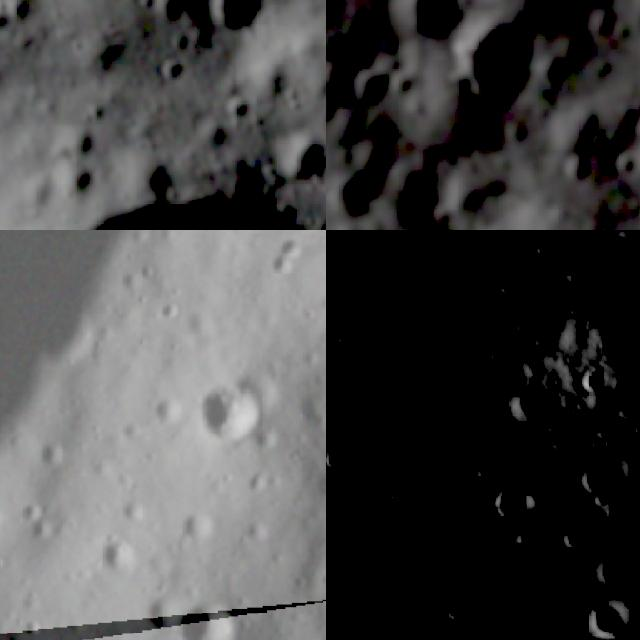crater: (185, 365, 277, 462), (462, 9, 544, 109), (560, 440, 638, 518), (493, 514, 572, 590), (478, 466, 548, 536), (493, 378, 562, 447), (579, 531, 640, 604), (159, 588, 242, 640), (269, 116, 326, 191), (193, 0, 274, 49), (92, 528, 150, 585), (548, 506, 607, 562), (398, 0, 469, 46), (444, 180, 507, 230), (567, 355, 622, 410), (332, 170, 388, 223), (326, 425, 372, 486), (569, 589, 624, 640), (556, 152, 606, 192), (355, 59, 400, 103), (177, 506, 222, 550), (237, 515, 283, 557), (148, 50, 190, 90), (30, 437, 72, 475), (9, 494, 47, 532), (149, 0, 191, 28), (230, 609, 263, 640), (268, 253, 300, 284), (14, 613, 48, 640), (157, 298, 186, 326), (20, 583, 48, 609), (30, 518, 56, 546), (617, 149, 640, 180), (0, 0, 16, 40), (0, 553, 11, 578), (157, 635, 181, 640)
